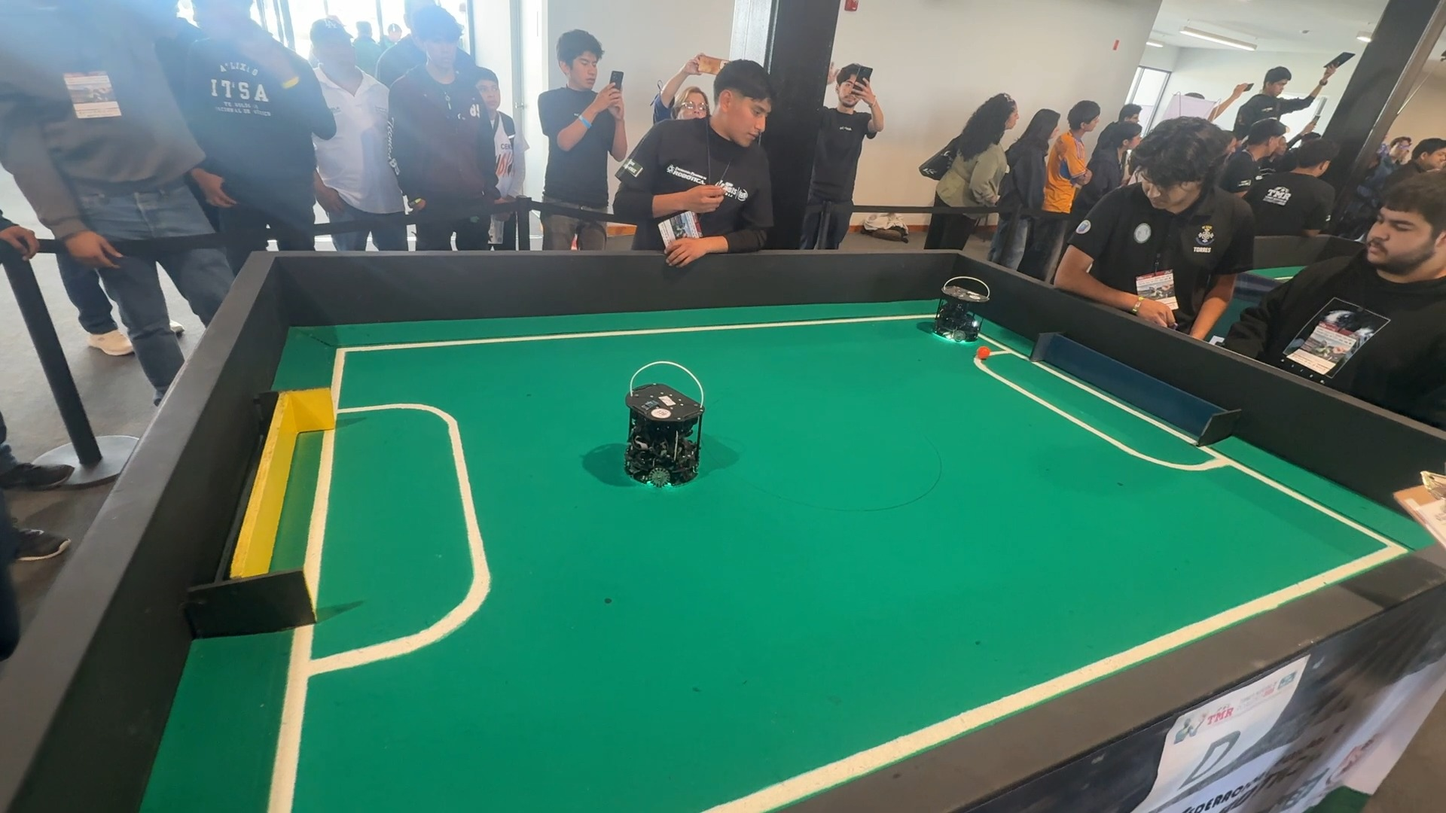Robot: (582, 368, 737, 500), (919, 273, 990, 351)
pelota: (976, 347, 991, 359)
